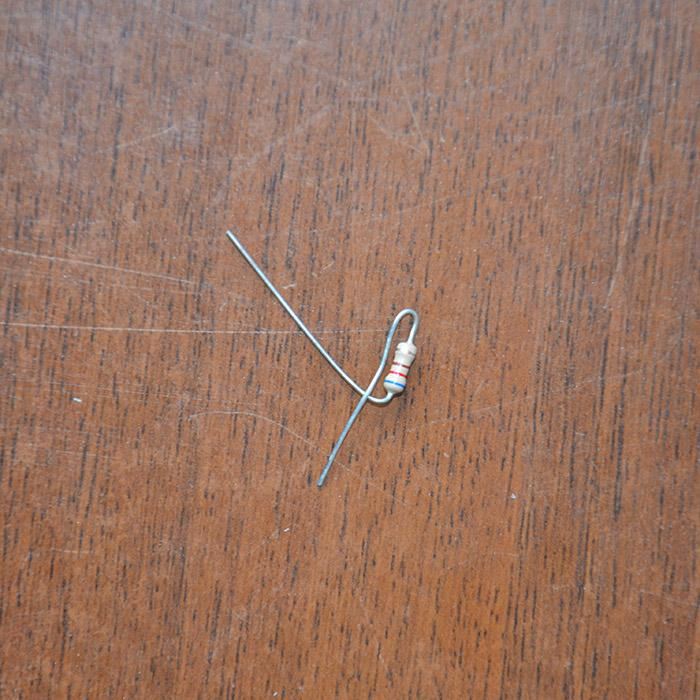resistor: (384, 341, 419, 395)
